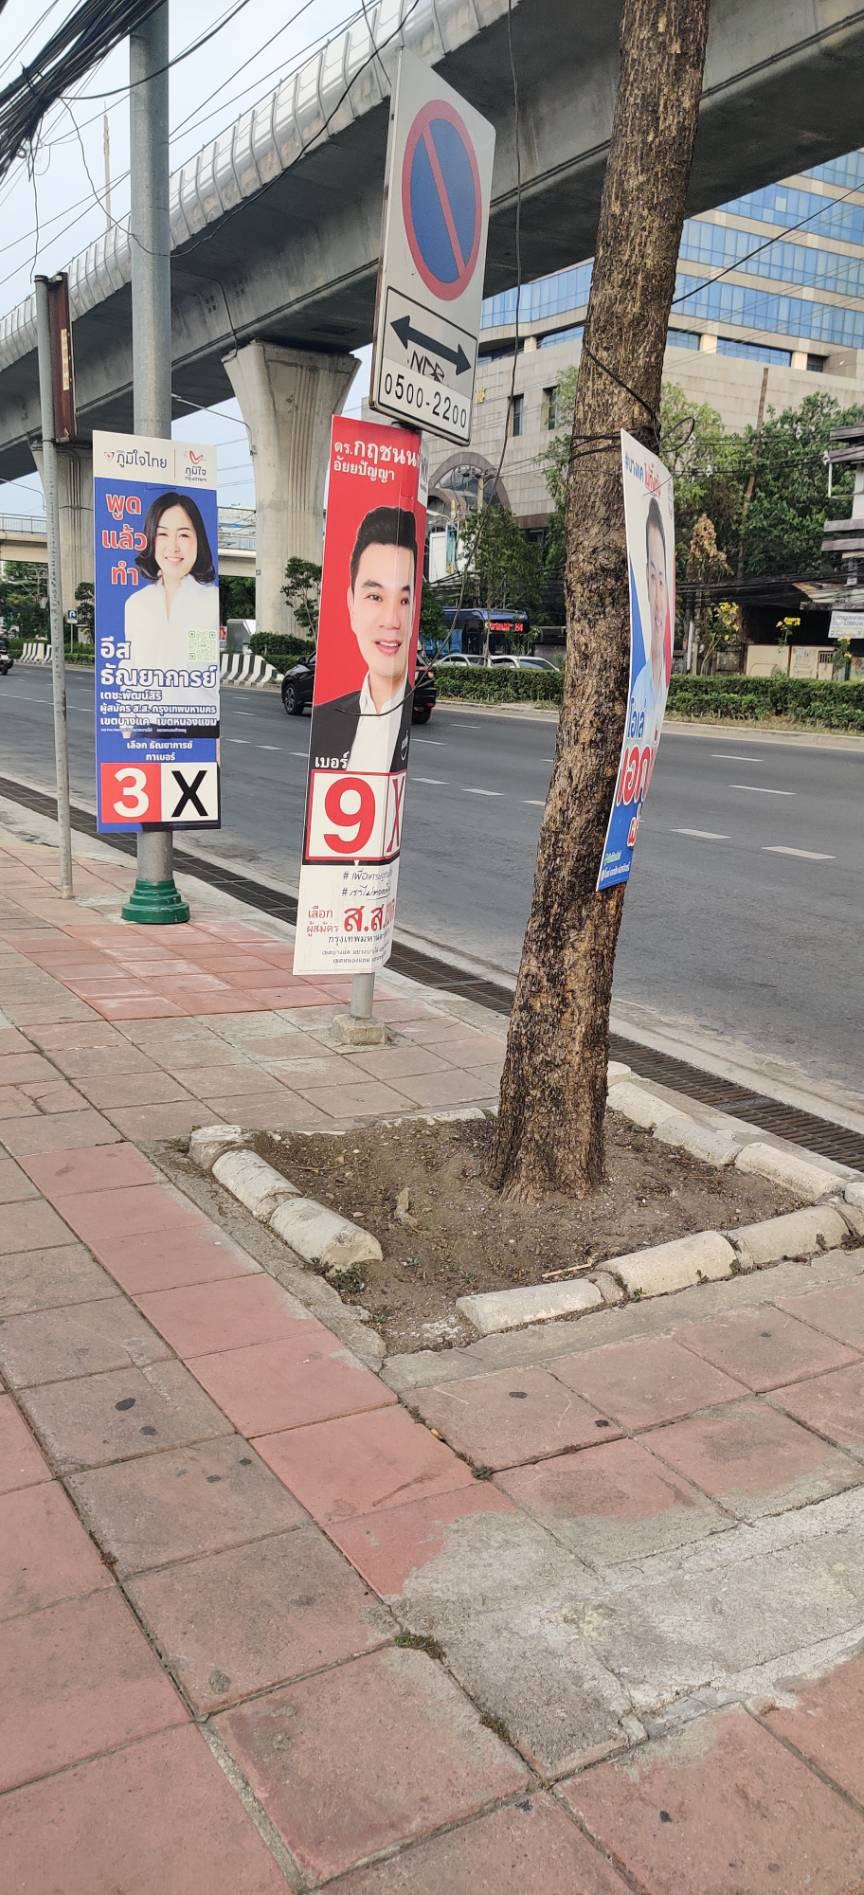Banner: (302, 416, 422, 972), (92, 431, 224, 830)
